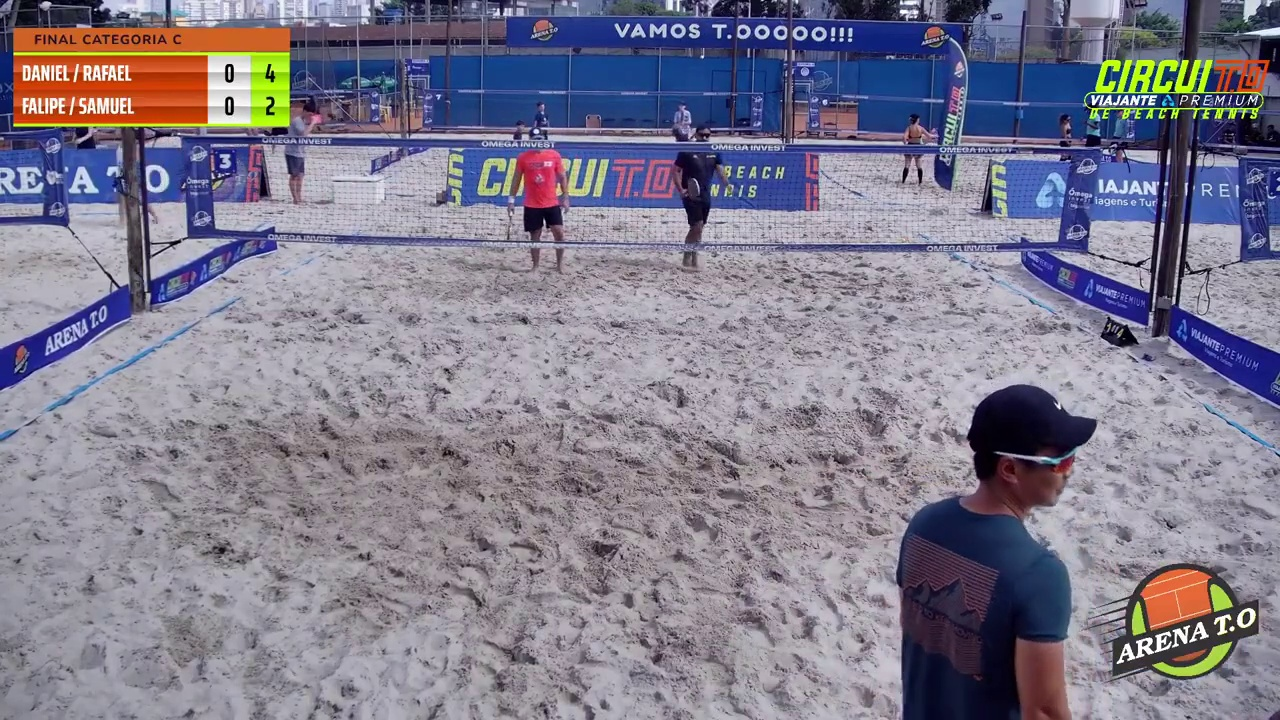court_line: (608, 0, 795, 336)
